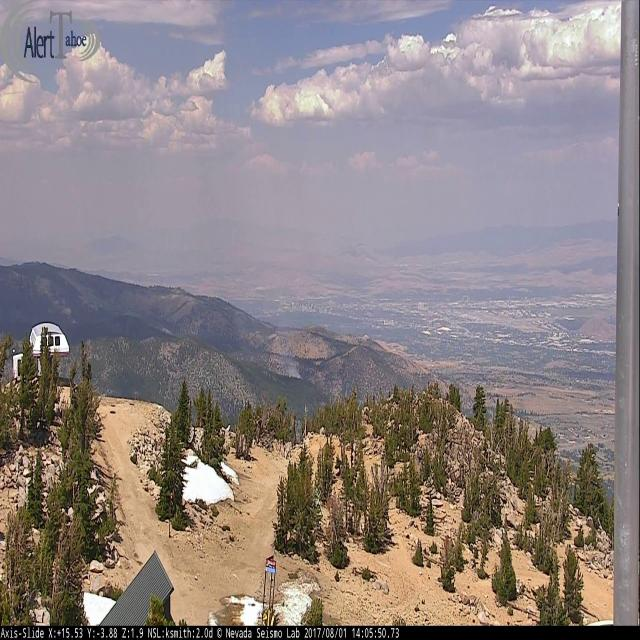smoke: (236, 318, 304, 381)
